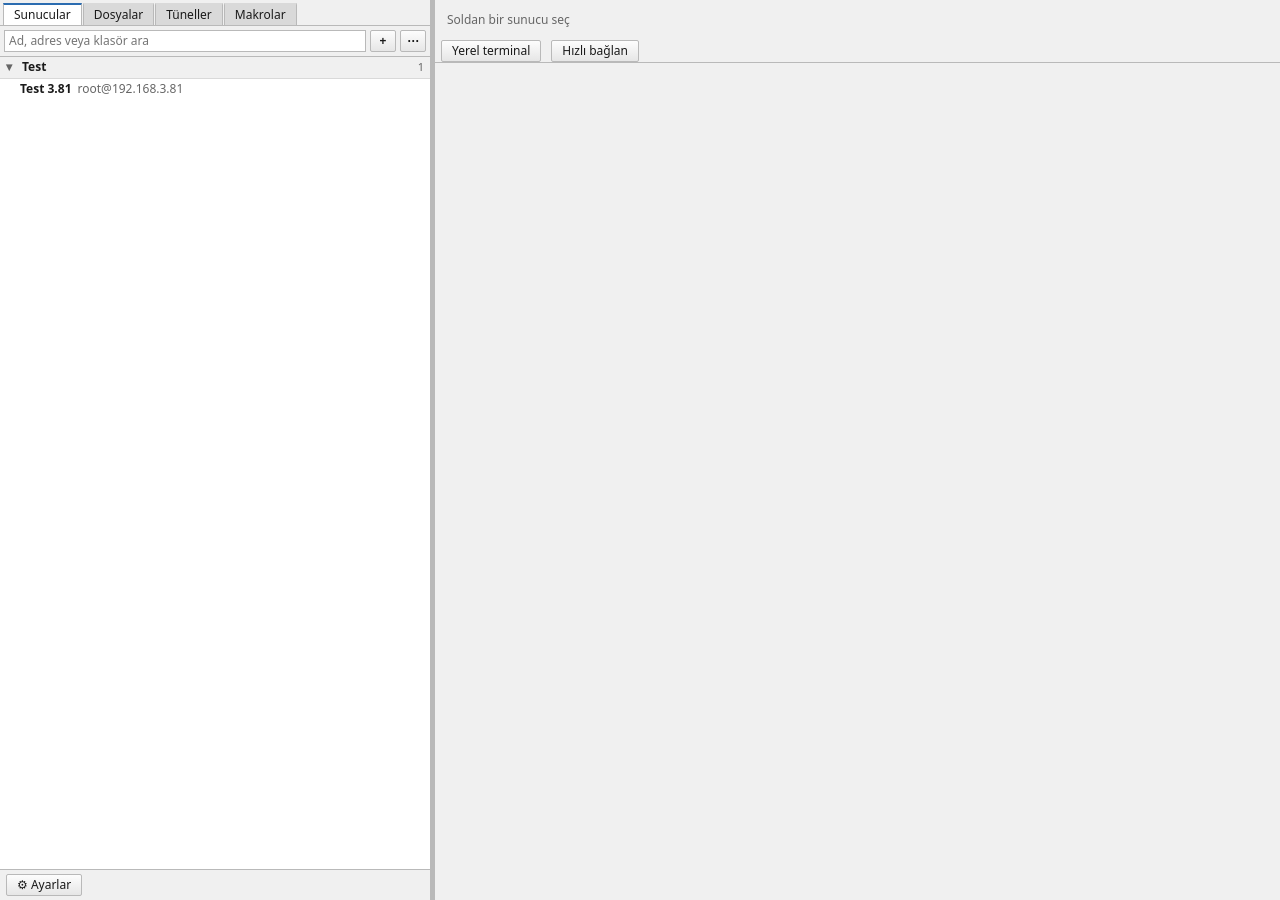
Scenario: adding a server saves it with the password and lists it
Expected: the text "Test 3.81" is shown, [20,81,72,97]
Click the button named "Sunucu ekle": [383, 41] box [370,30,396,52]
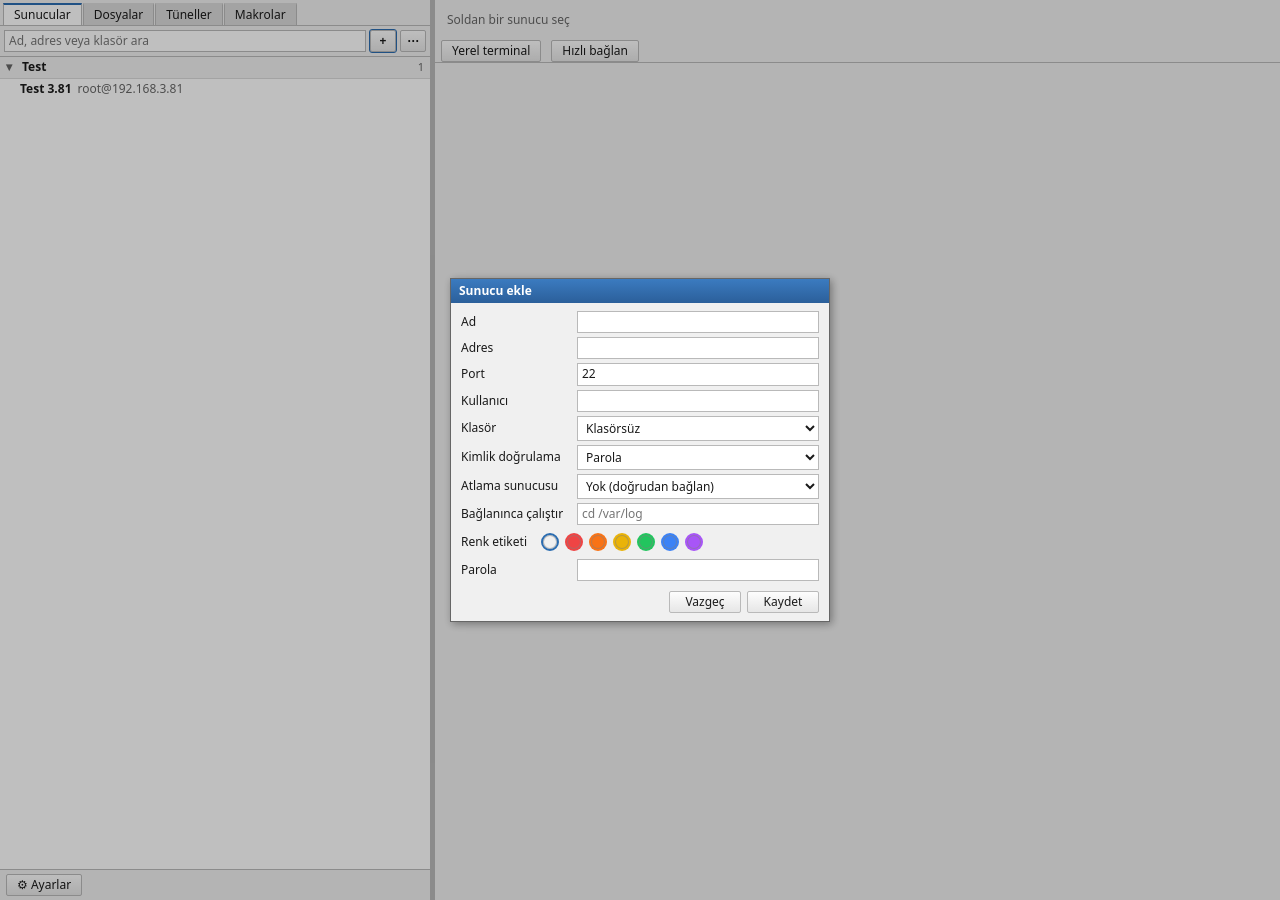
In the field labelled "Ad": [698, 322] box [577,311,819,333], type "Yeni"
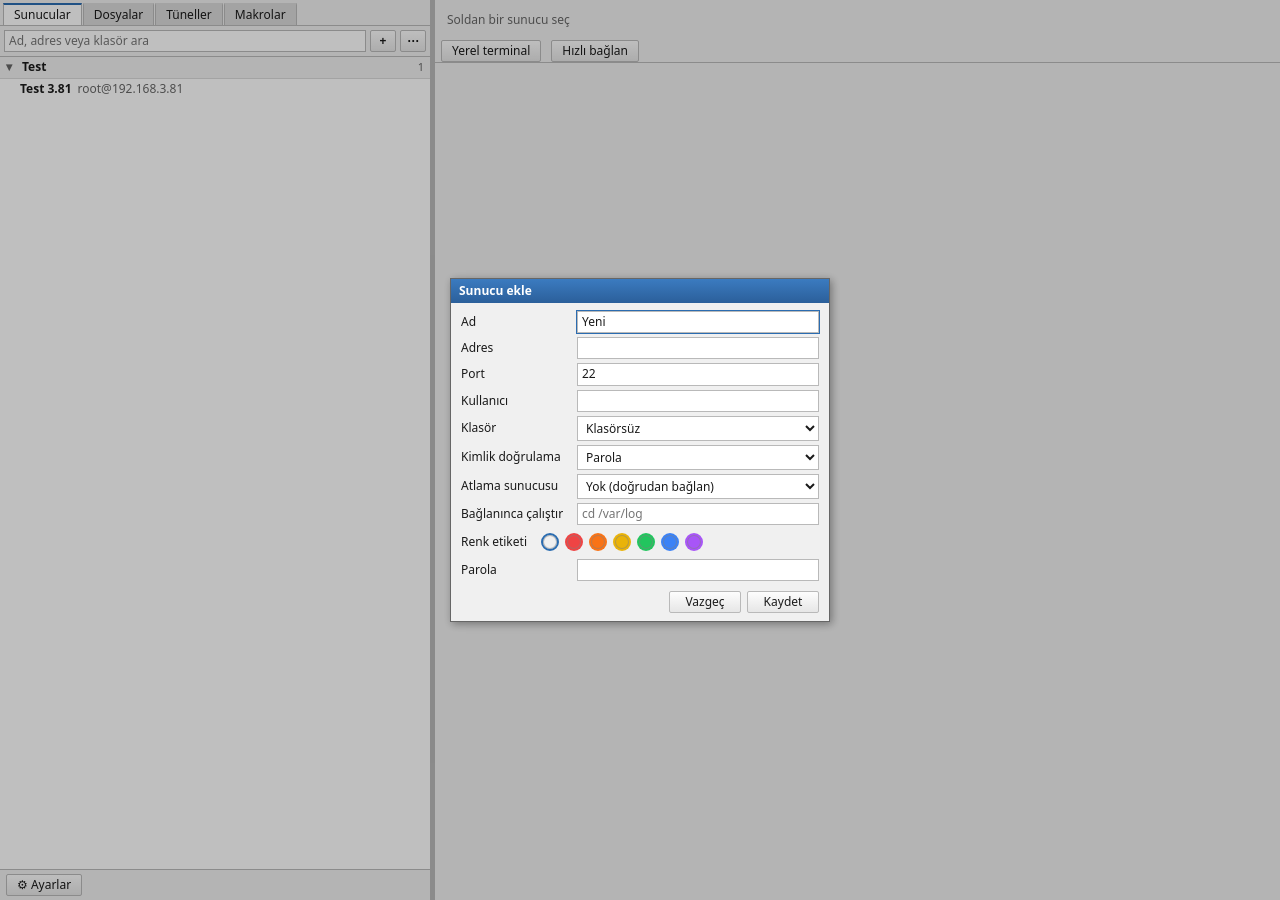
In the field labelled "Adres": [698, 348] box [577,337,819,359], type "10.1.1.1"
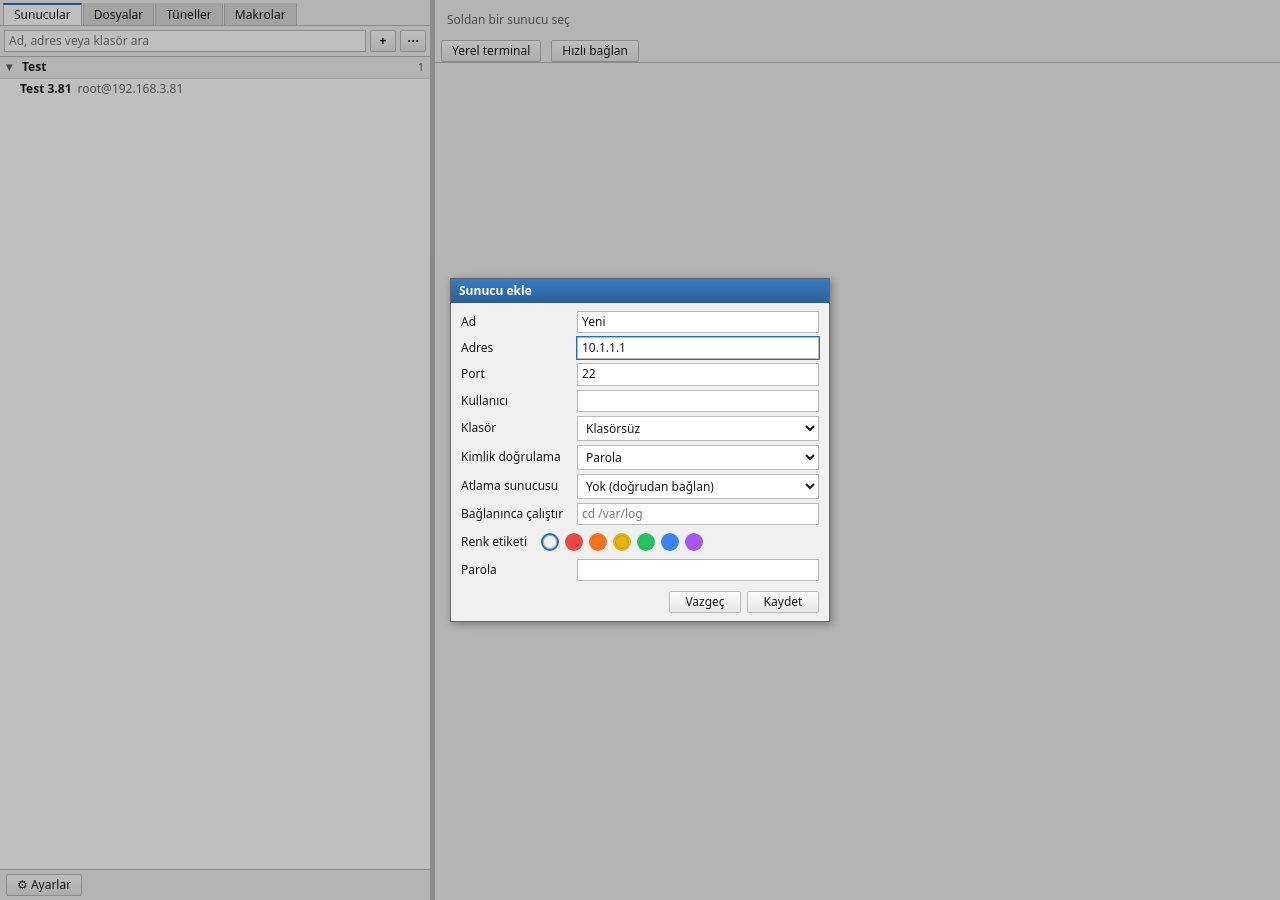
In the field labelled "Kullanıcı": [698, 401] box [577,390,819,412], type "admin"
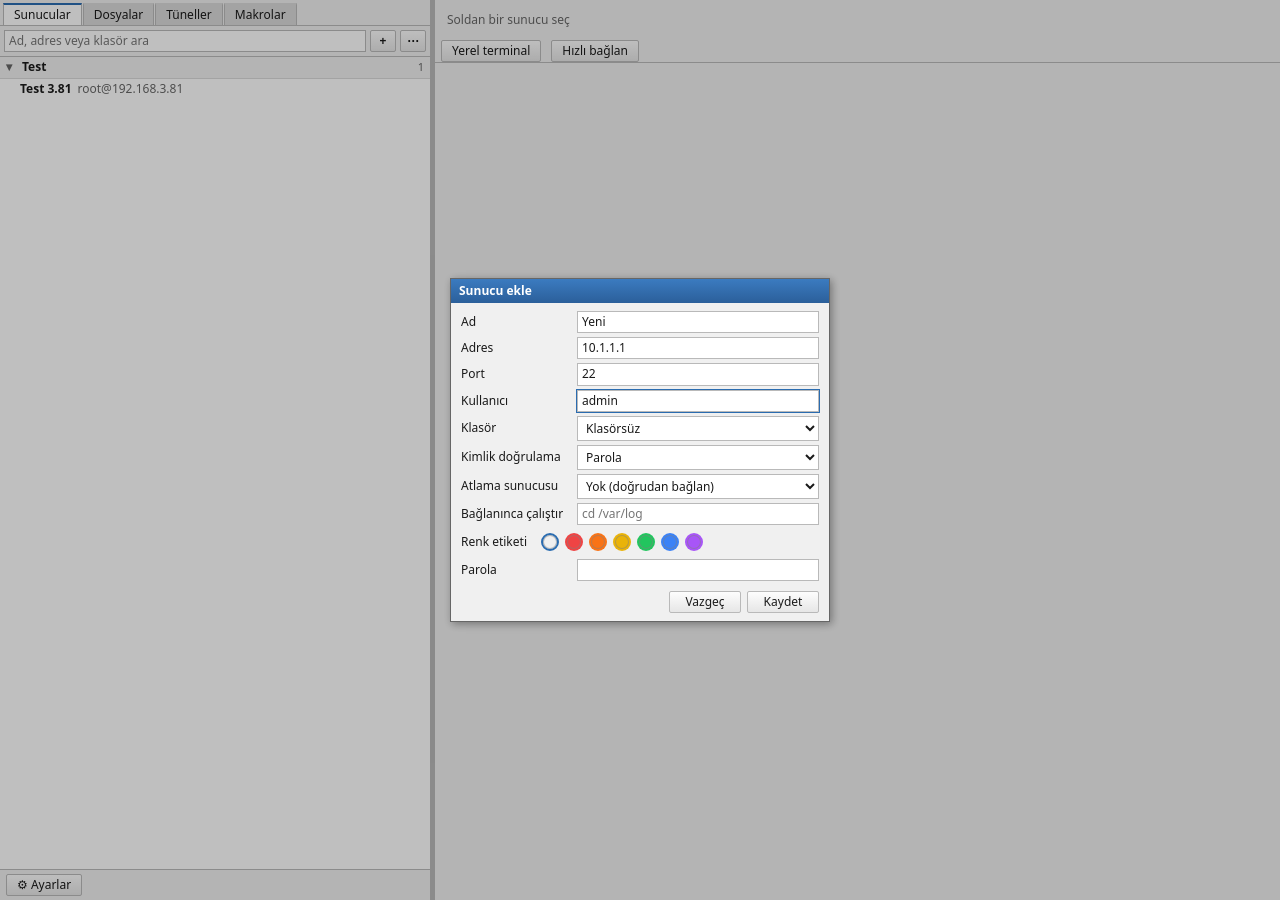
In the password field labelled "Parola": [698, 570] box [577,559,819,581], type "pw"
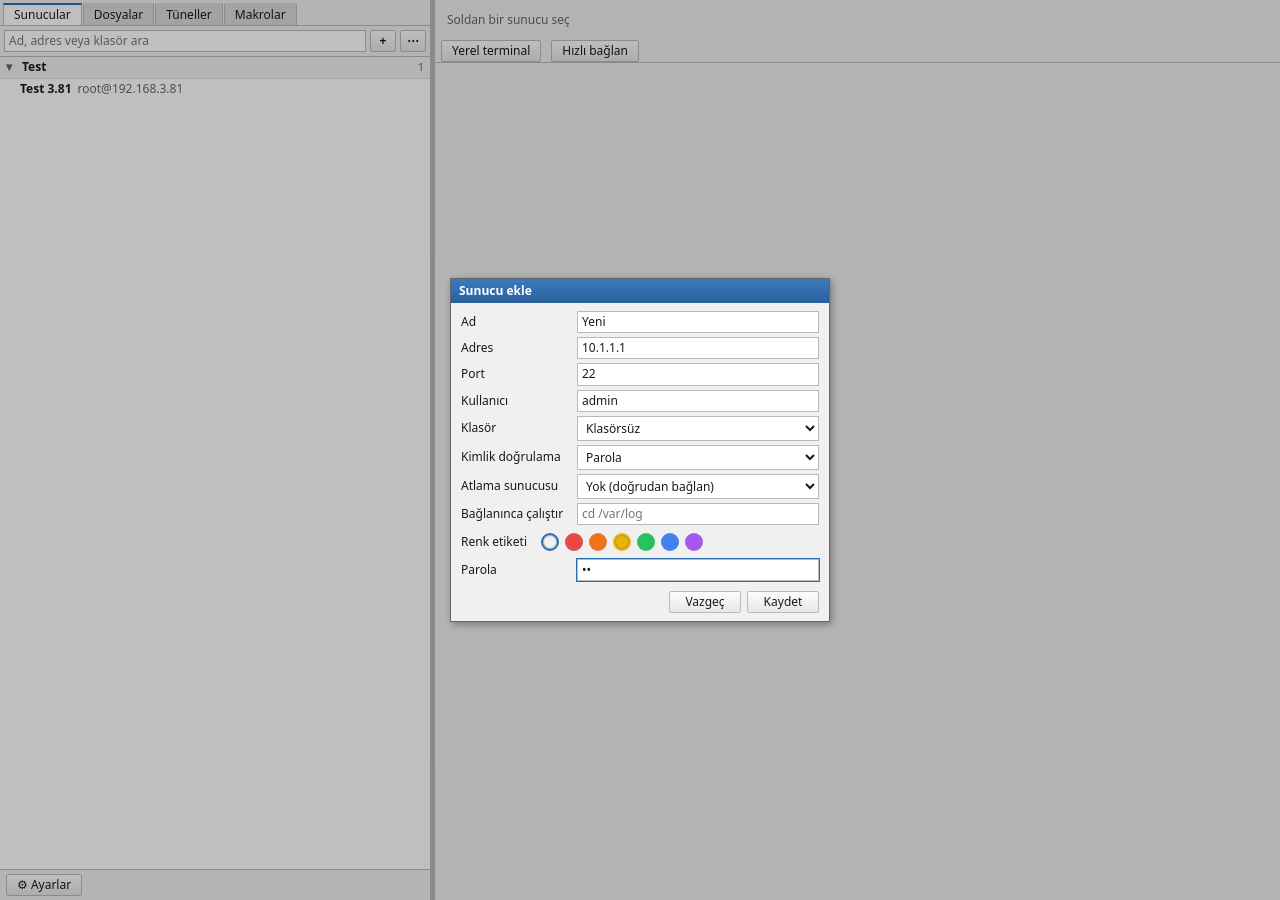
Click the button "Kaydet": [783, 602] box [747,591,819,613]
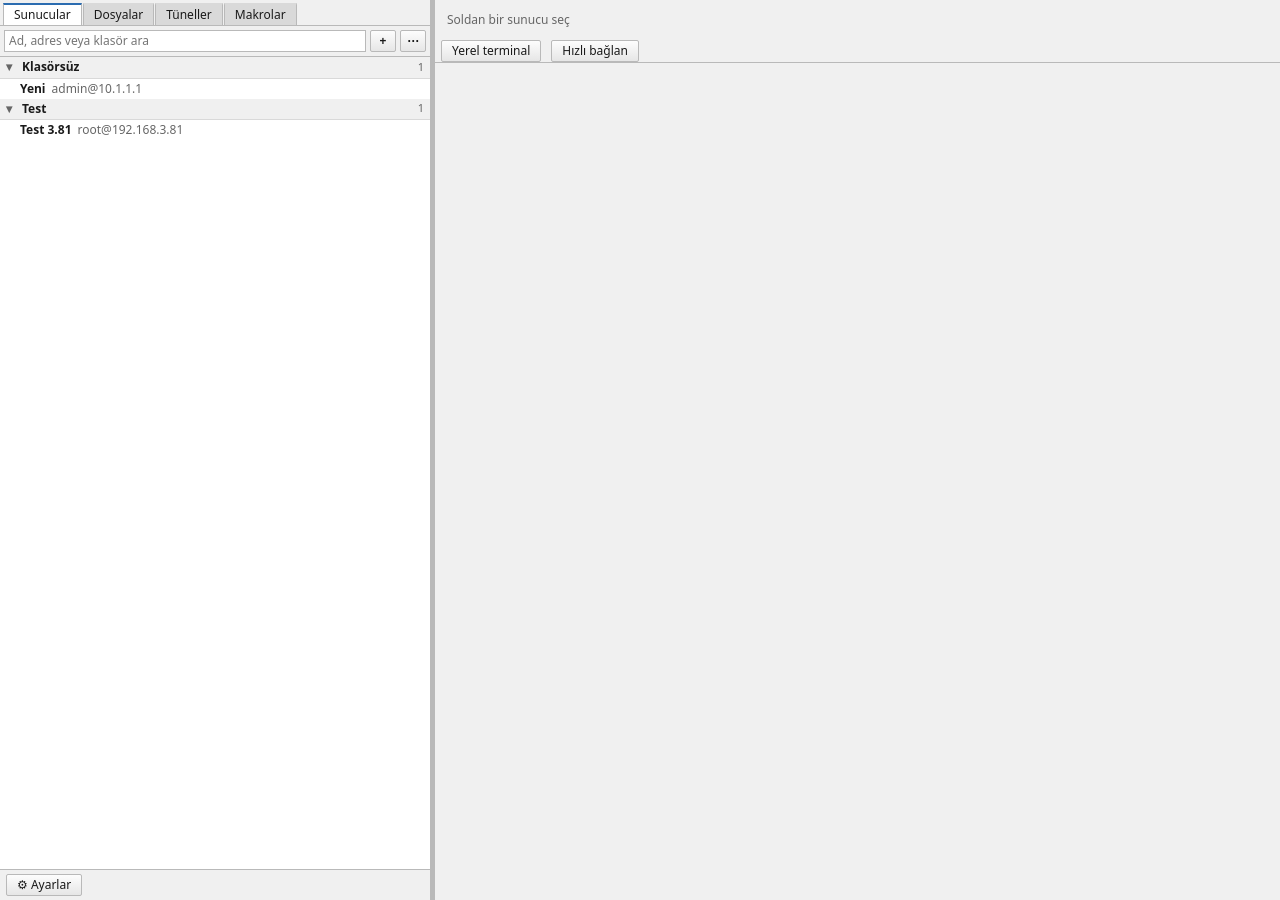
Result: the text "Yeni" is shown at [20,81,46,97]
